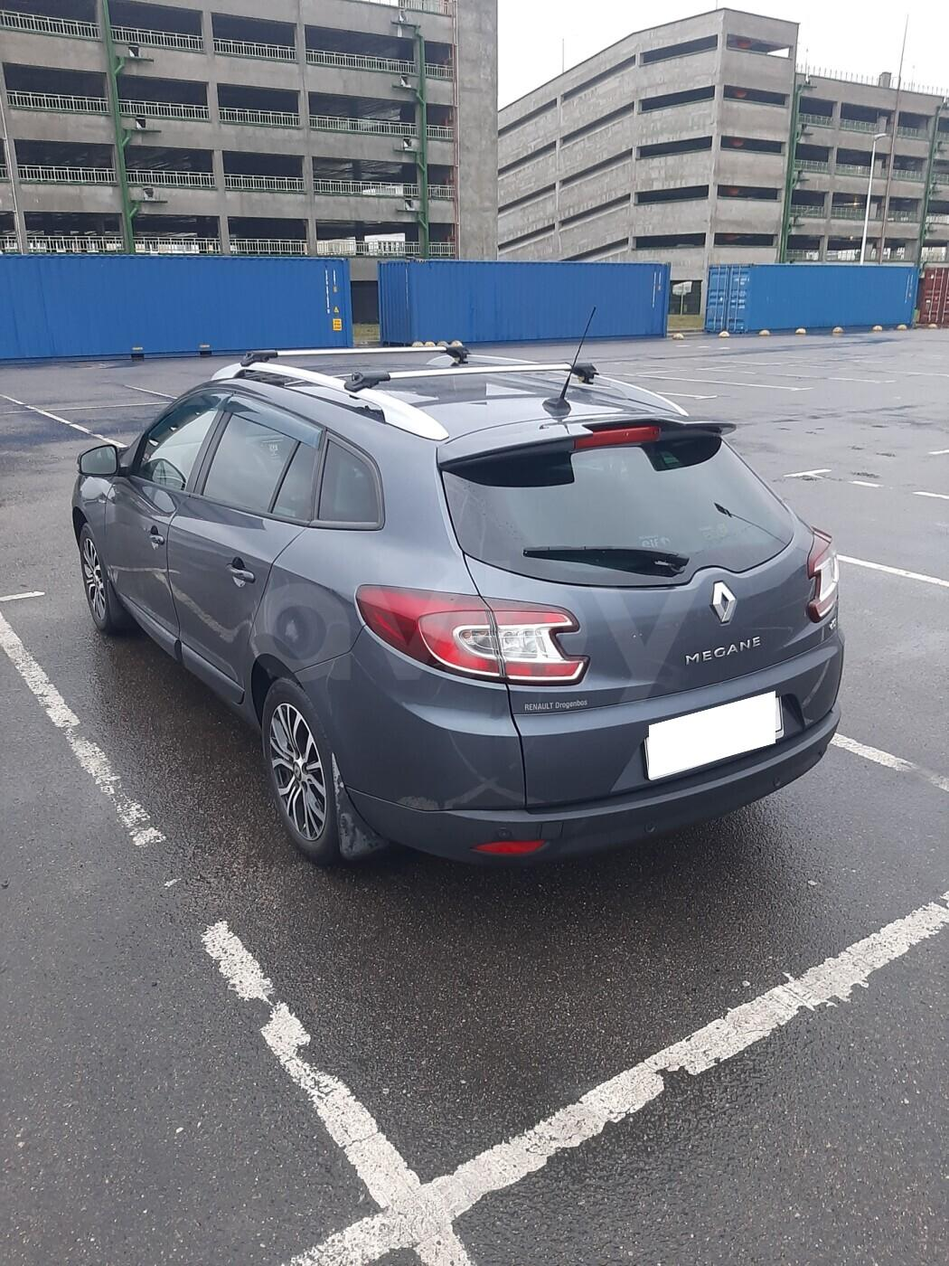Megane_2014-2016: (60, 342, 860, 875)
